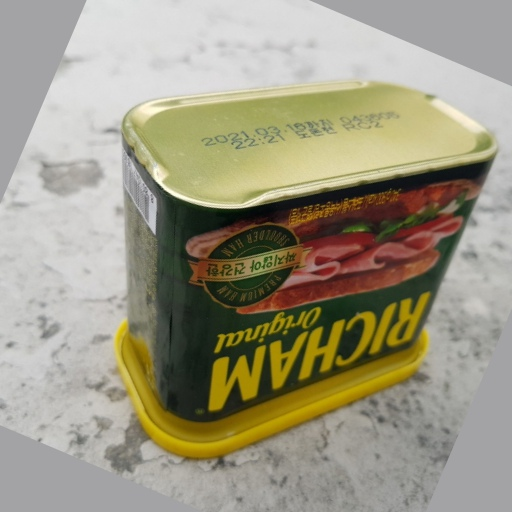Metal_2: (107, 81, 500, 453)
